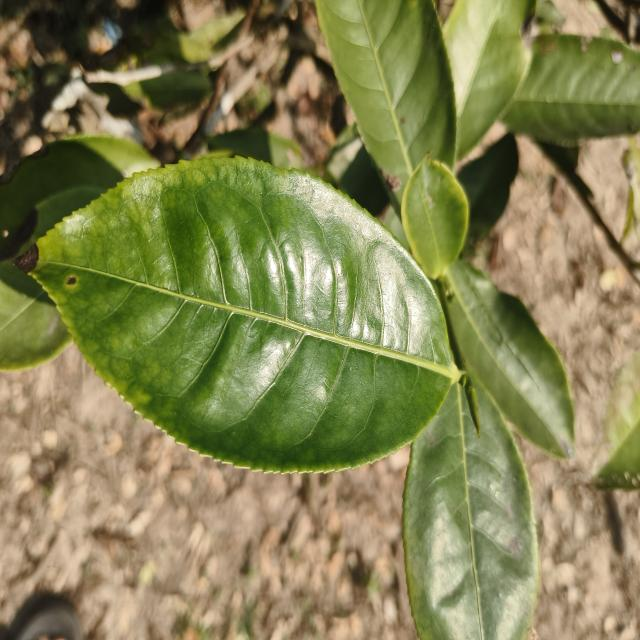Leaf: (32, 158, 458, 471), (403, 382, 539, 640), (315, 0, 456, 204), (444, 260, 574, 458), (0, 136, 159, 258), (501, 34, 640, 145), (443, 0, 535, 159), (401, 158, 469, 278), (0, 260, 72, 371), (457, 133, 518, 242), (207, 127, 302, 169)
